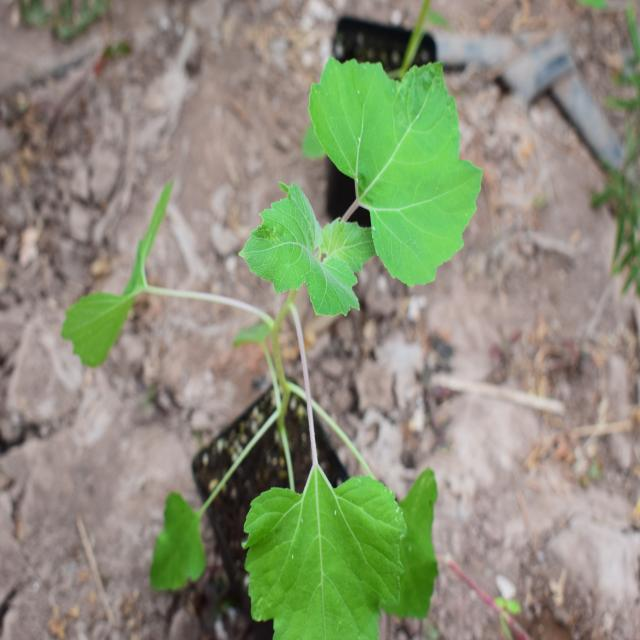cocklebur: (79, 50, 482, 591)
